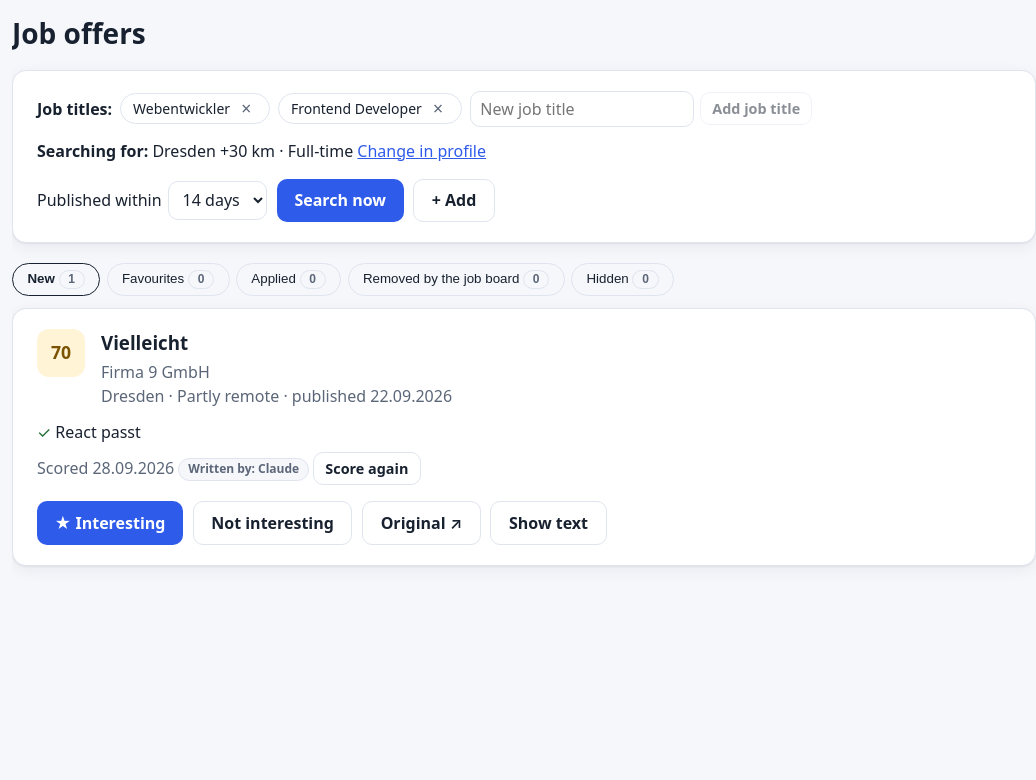
Test: VacancyList › "Not interesting" hides with an undo toast; Undo brings it back
Expected: the heading "Vielleicht" is shown, [101, 330, 188, 355]
What coordinates should you click on to do the following:
click the button "Not interesting"
I would click on:
 (272, 523)
Its box is [193, 501, 352, 545].
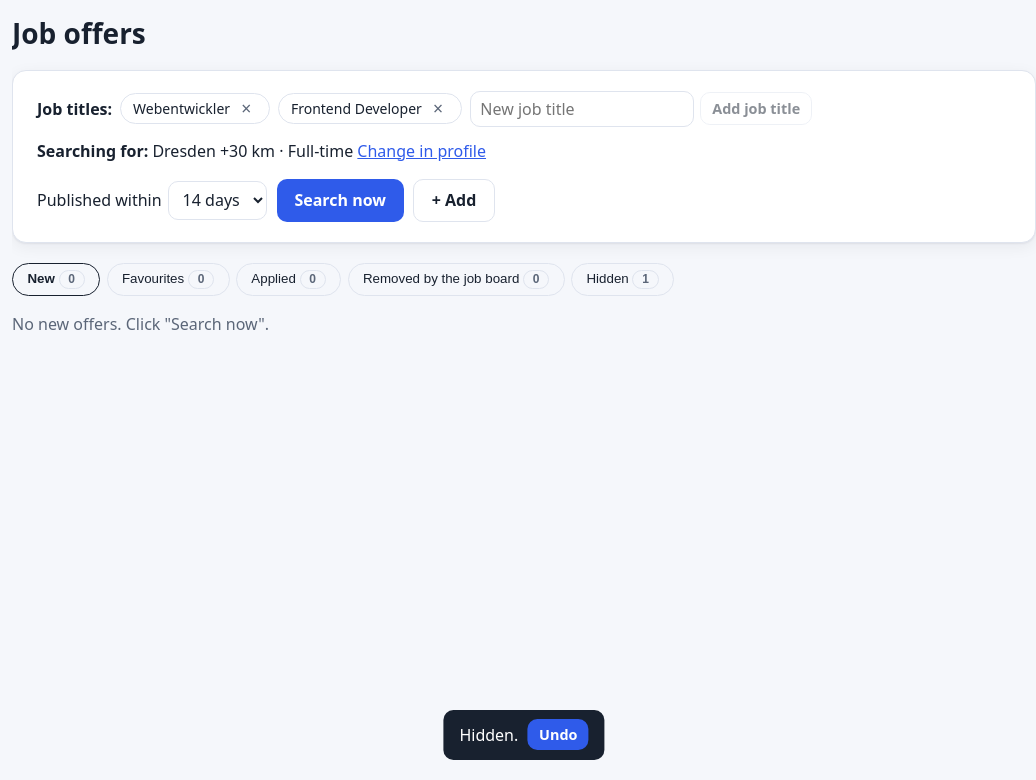
Now the heading "Vielleicht" is gone
What coordinates should you click on to do the following:
click the button "Undo"
I would click on:
 (558, 735)
Its box is [528, 719, 589, 750].
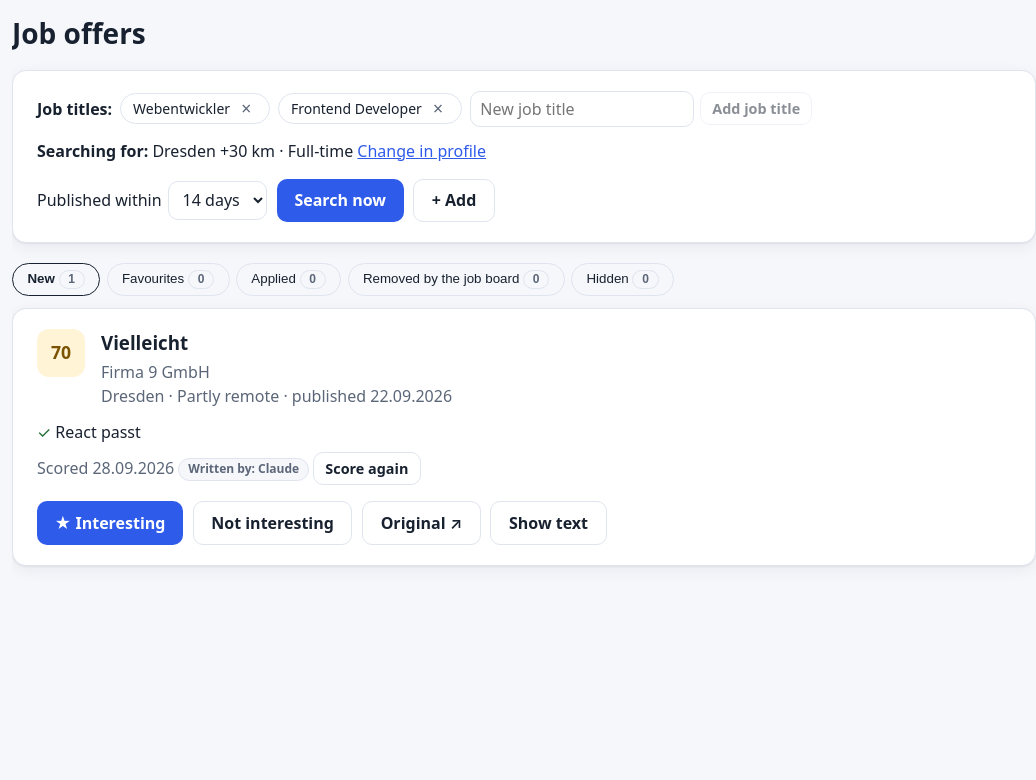
Now the heading "Vielleicht" is shown, box [101, 330, 188, 355]
